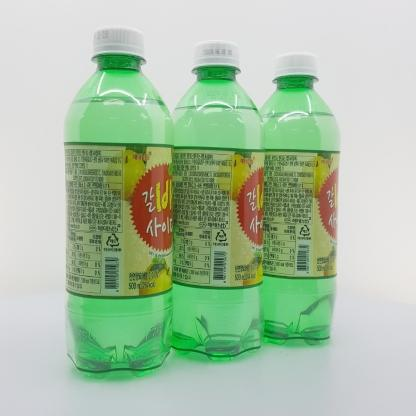-------500ML: (63, 26, 174, 379), (170, 40, 265, 361), (253, 52, 341, 346)
